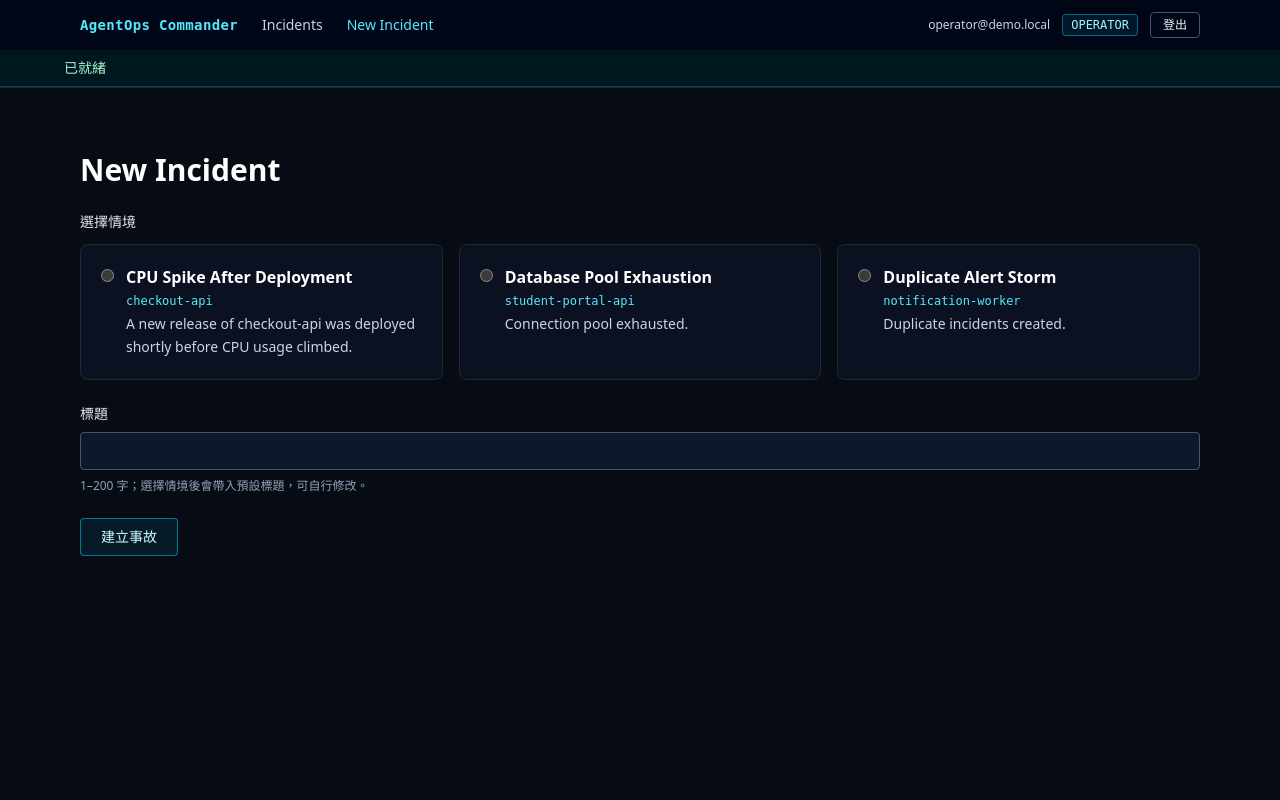
/incidents/new › 未編輯 title 時切換情境，title 跟著新情境的預設值
The width and height of the screenshot is (1280, 800).
Click the radio button labelled "CPU Spike After Deployment" at point(108, 276), box left=101, top=269, right=114, bottom=282
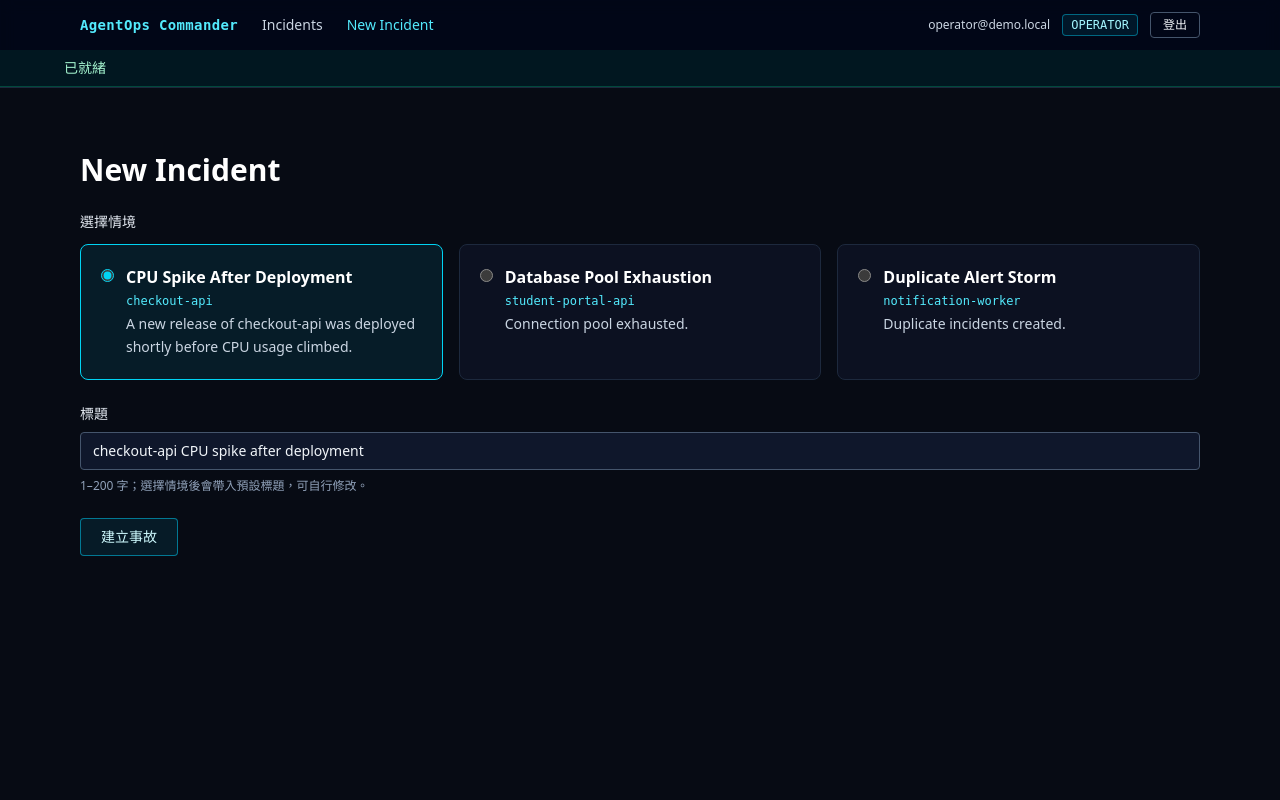
Click the radio button labelled "Duplicate Alert Storm" at point(865, 276), box left=858, top=269, right=871, bottom=282
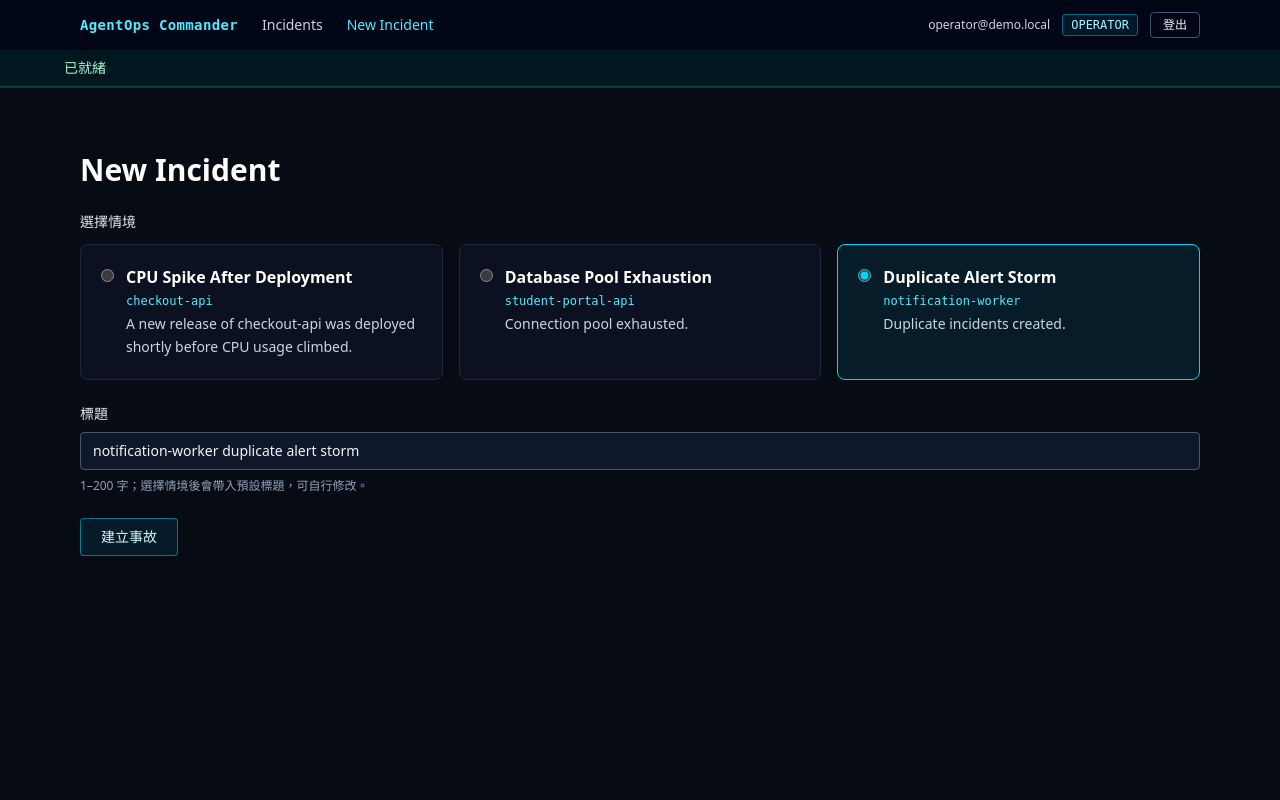
Check: the field labelled "標題" holds "notification-worker duplicate alert storm", box left=80, top=432, right=1200, bottom=470
